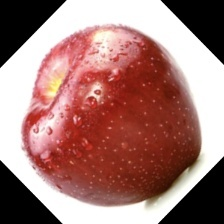apple: (33, 0, 175, 191)
